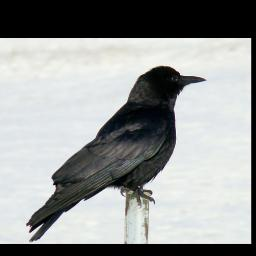Crow: (25, 65, 208, 243)
